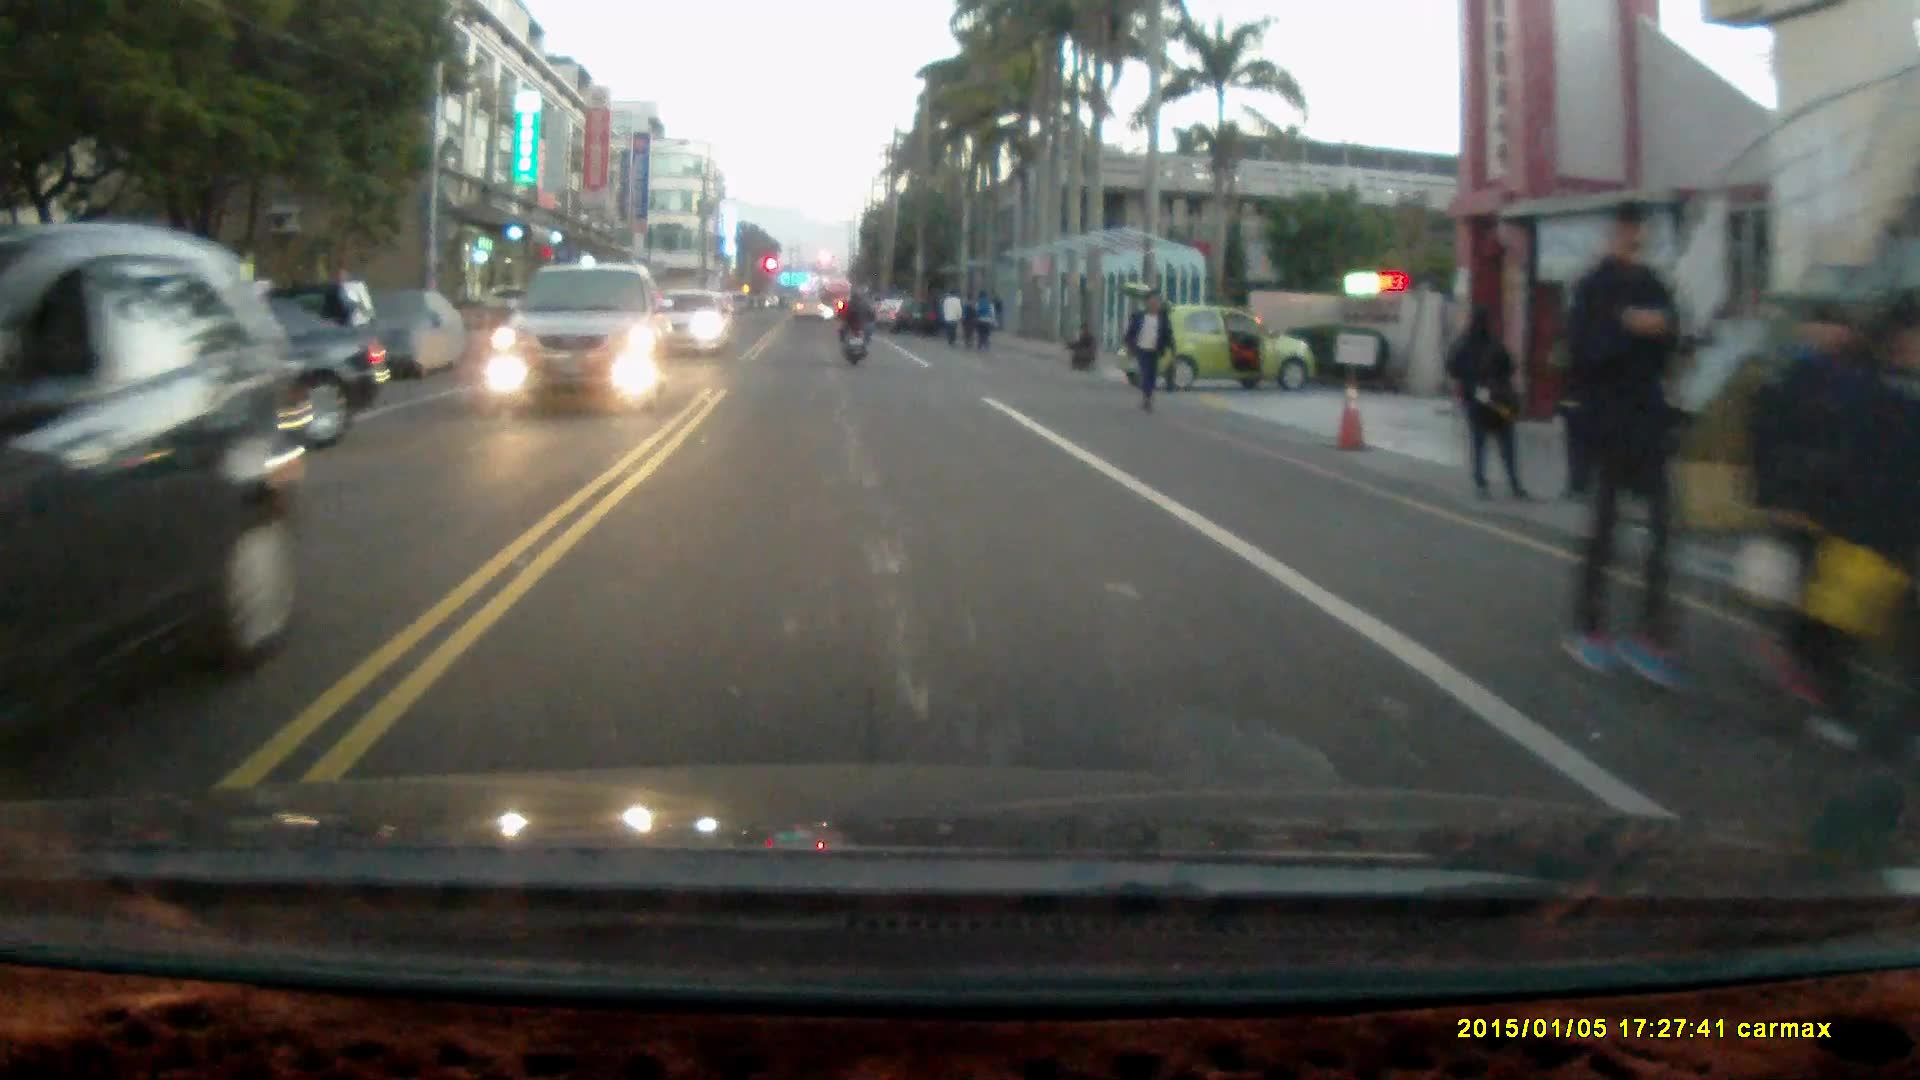pedestrian: (1559, 194, 1706, 696), (1803, 317, 1916, 768), (1449, 302, 1535, 506), (1119, 290, 1174, 416), (971, 288, 997, 354), (1066, 323, 1098, 370), (942, 286, 964, 351), (958, 291, 979, 349)
rider: (836, 287, 873, 367)
vehicle: (1, 218, 311, 731), (0, 282, 396, 456), (487, 265, 677, 411), (1118, 278, 1318, 393), (647, 290, 732, 358)
